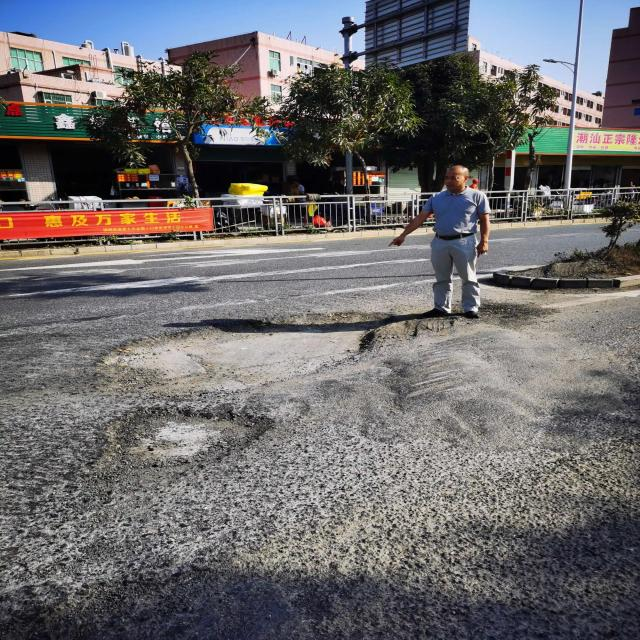Pothole: (94, 312, 403, 383), (86, 399, 277, 491)
